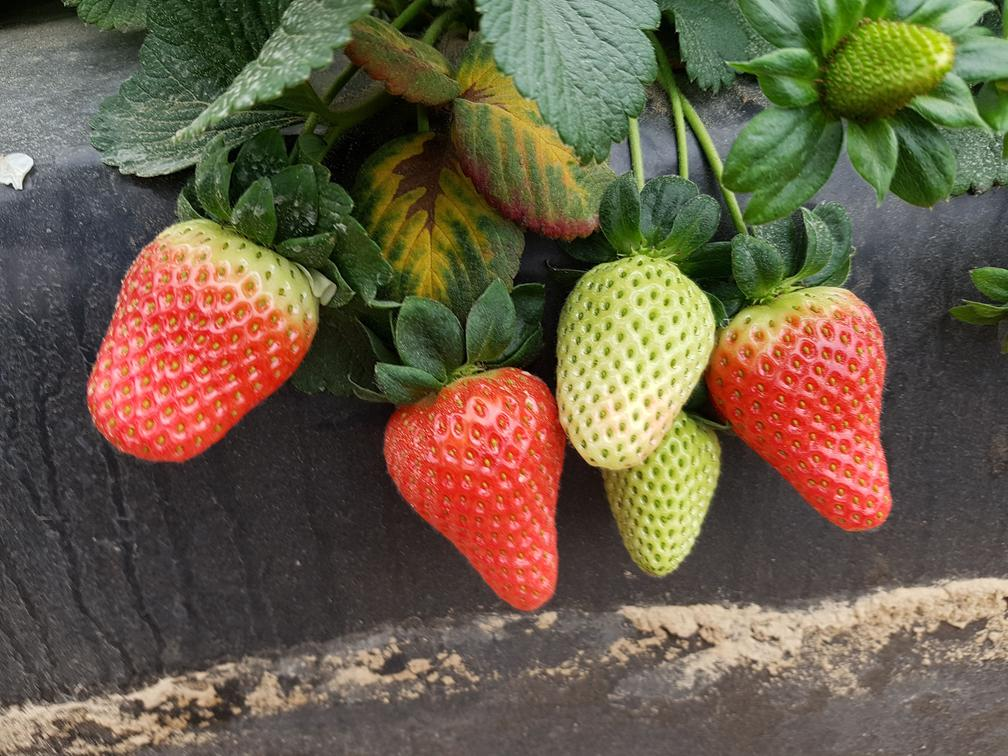Ripe: (80, 220, 321, 466), (720, 298, 906, 536), (378, 374, 563, 612)
Unripe: (558, 257, 719, 471), (613, 431, 723, 579), (825, 14, 959, 119)
